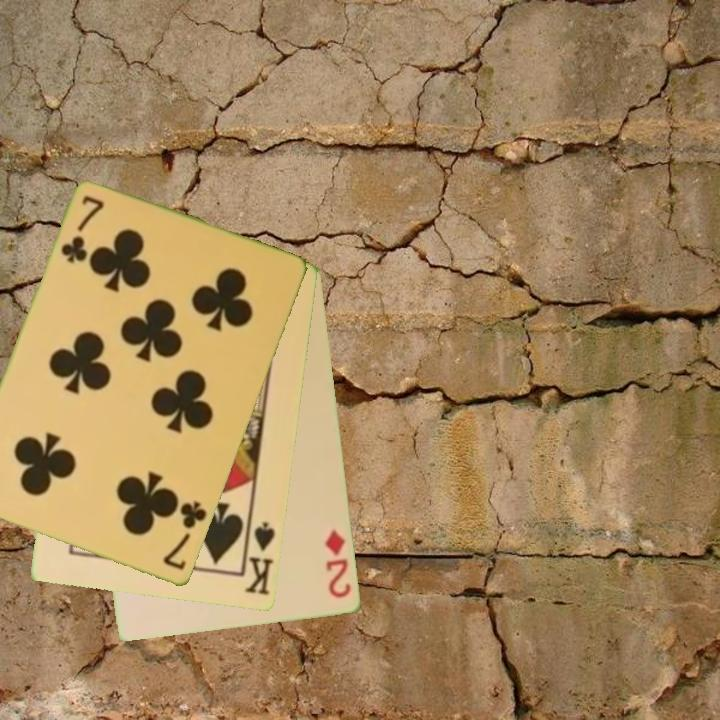2d: (322, 527, 354, 601)
7c: (160, 497, 211, 574), (57, 192, 107, 267)
Ks: (242, 518, 279, 599)
